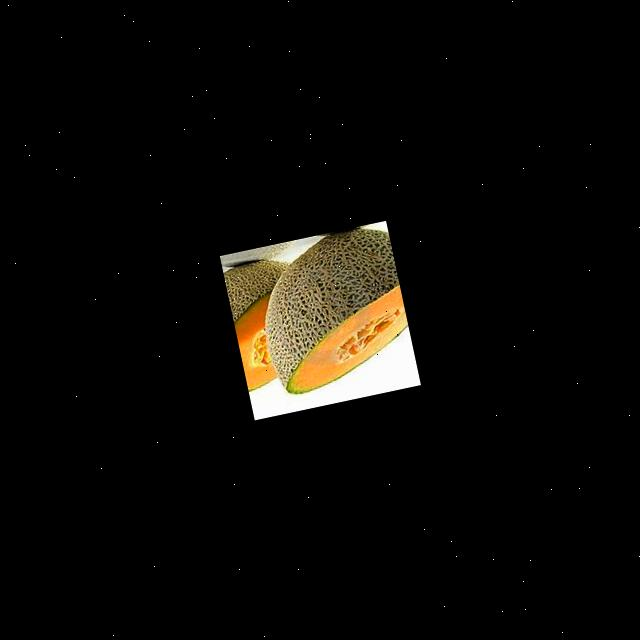Hami Melon: (250, 223, 418, 399)
